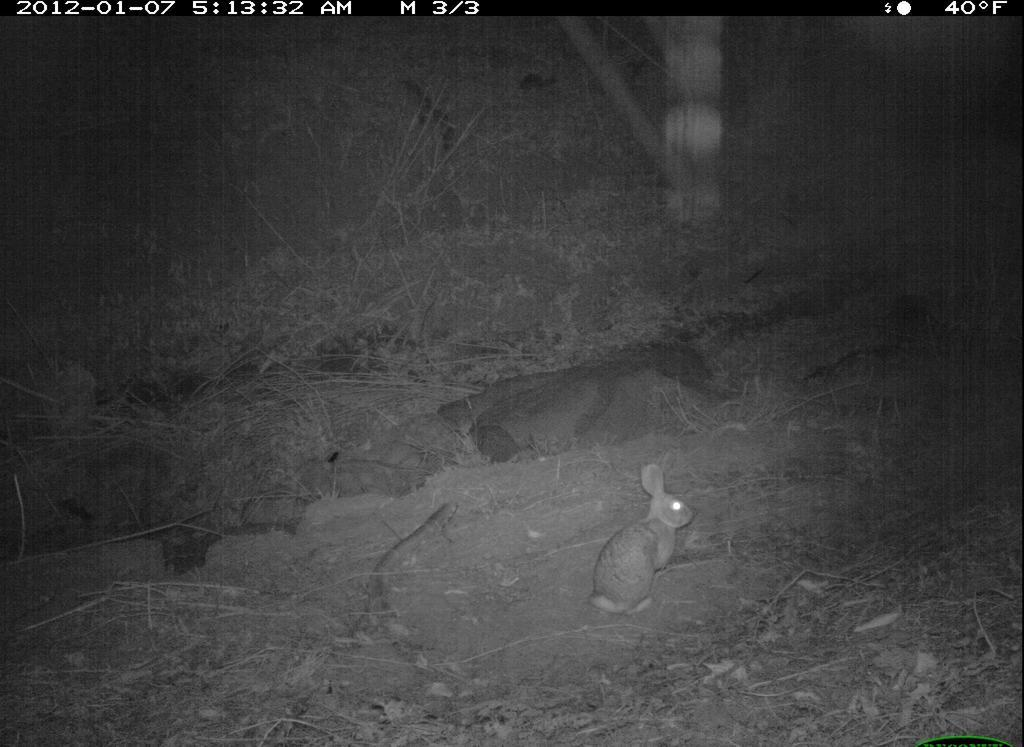rabbit: (583, 461, 707, 626)
